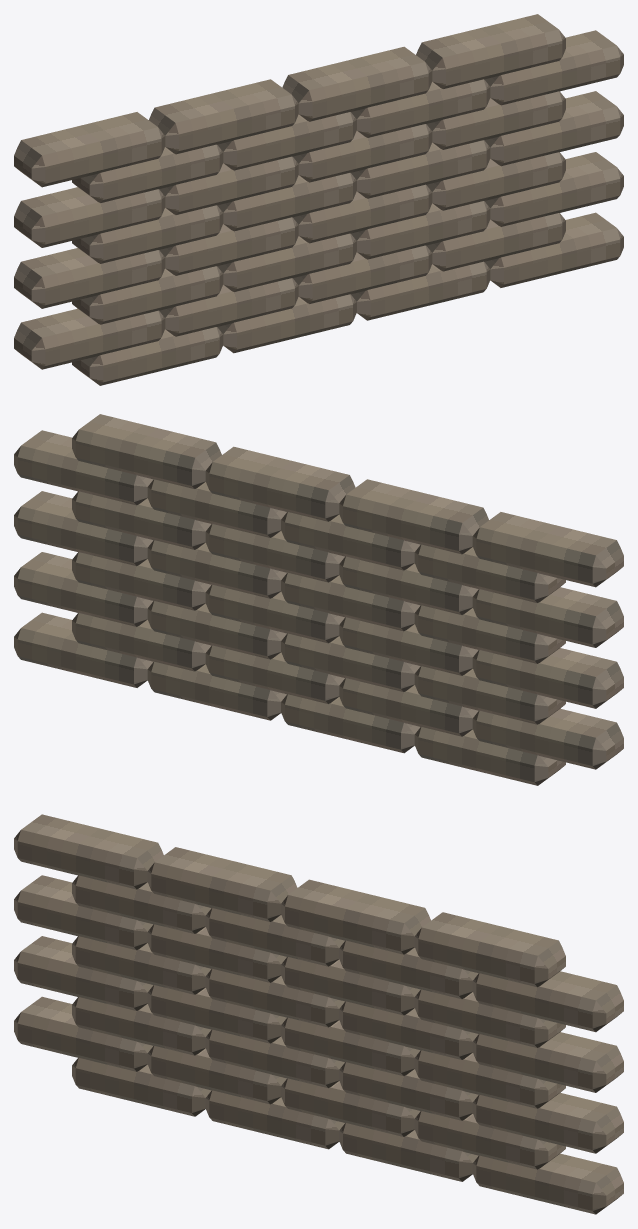
The model's file is sandbag_wall_section.gltf.
The picture shows the model from 3 angles, top to bottom: view 1: azimuth 30°, elevation 25°; view 2: azimuth 150°, elevation 25°; view 3: azimuth 330°, elevation 25°; orthographic projection.
Parts seen in each view (by area): view 1: sandbag; view 2: sandbag; view 3: sandbag.
Boxes of the visible parts, <box> form: sandbag: <box>14,14,623,385</box>; sandbag: <box>14,414,623,785</box>; sandbag: <box>14,814,623,1214</box>.
Bounding box in the file's own units: 2.55 × 1.01 × 0.2062.
1 material, 1 textured.
